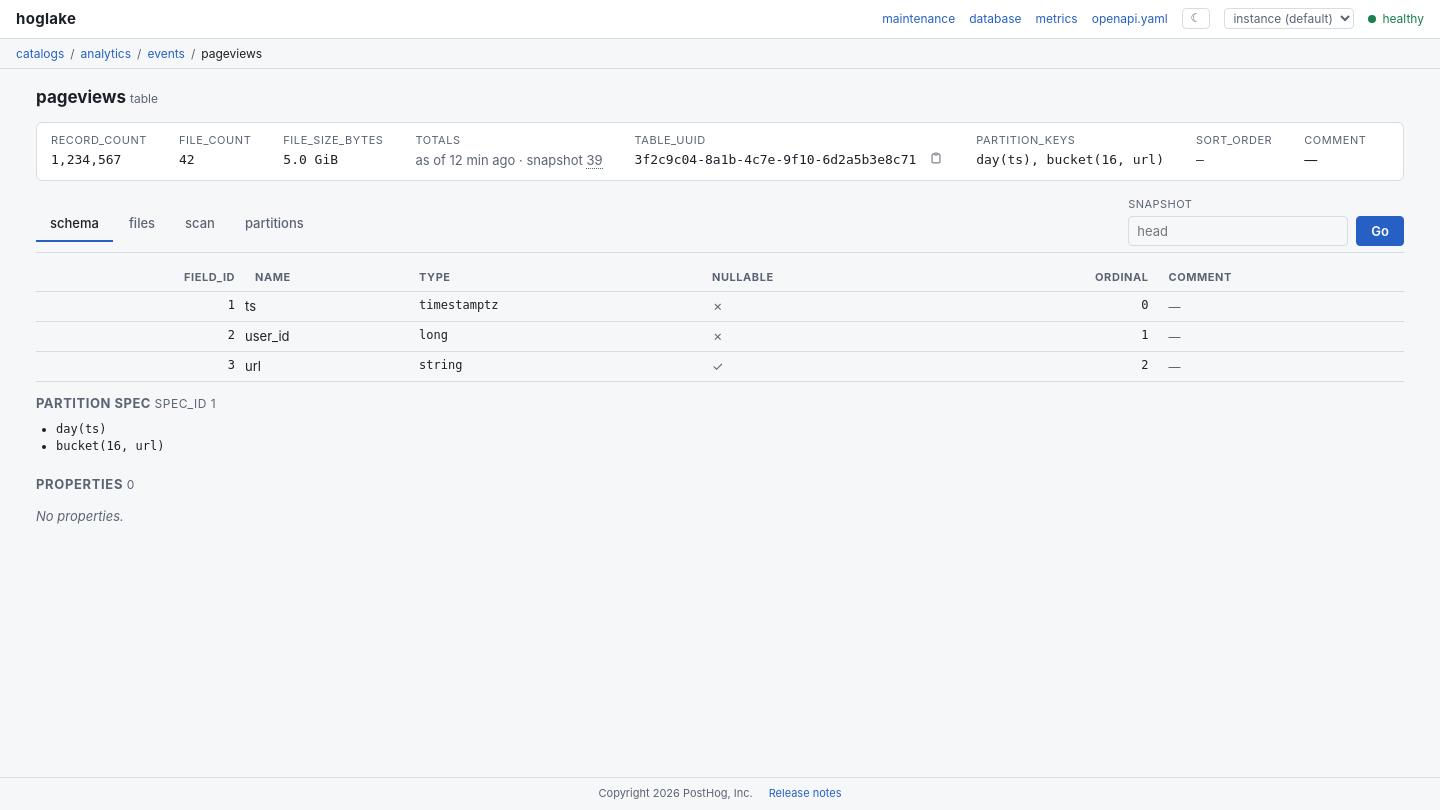
Test: TablePage › pairs data files with deletion vectors on the Scan tab
Click the tab "scan". click: click(200, 224)
box: [171,207,229,242]
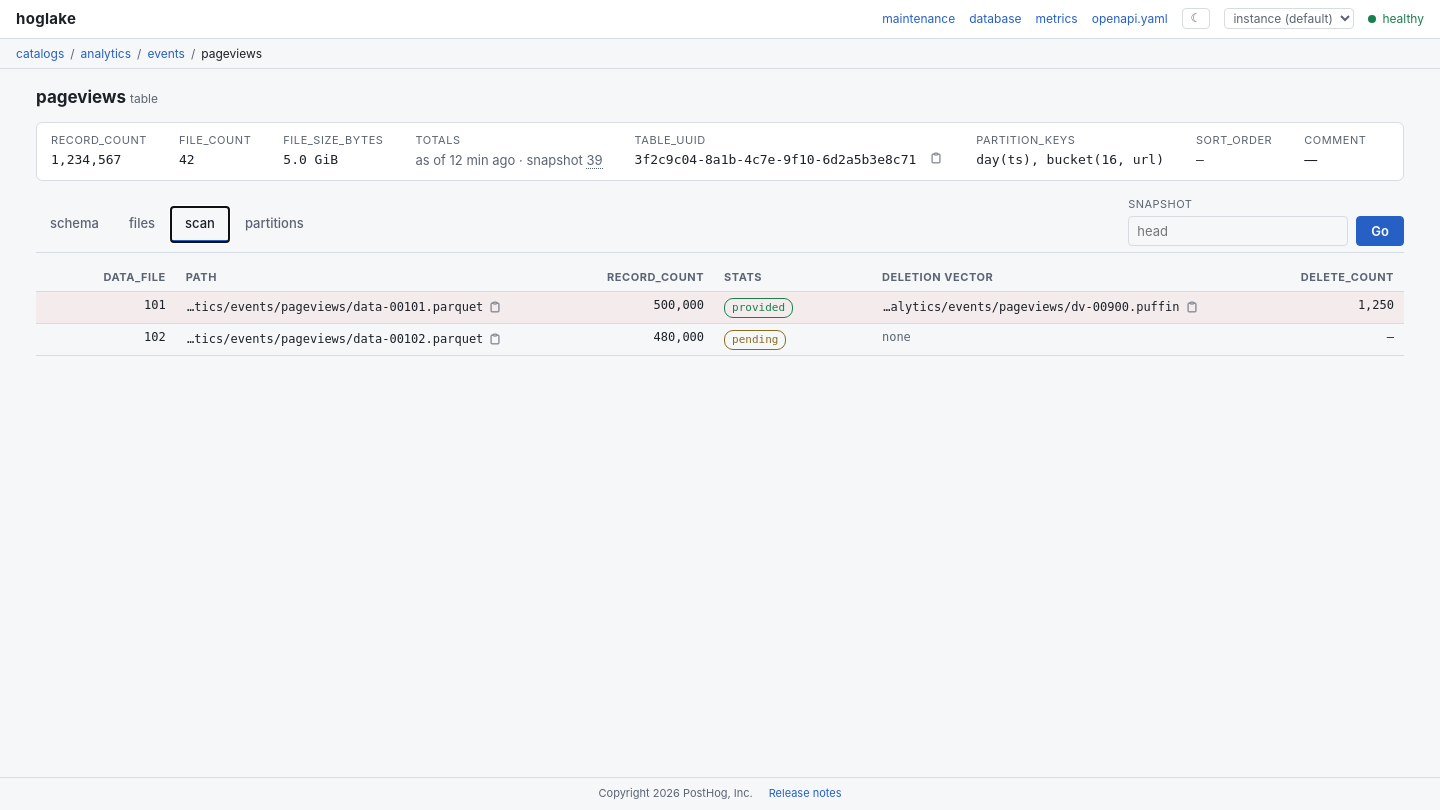
Now the text "s3://hog-lake/analytics/events/pageviews/dv-00900.puffin" is shown, box [882,299,1180,316]
Now the text "1,250" is shown, box [1212,292,1404,324]
Now the text "none" is shown, box [882,330,911,344]
